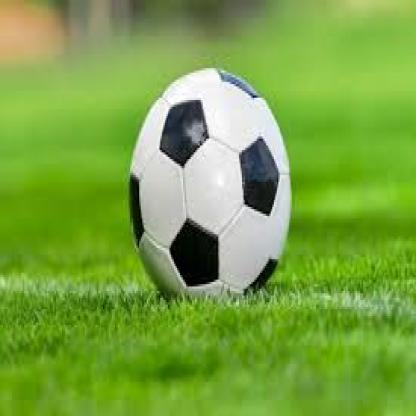ball: (129, 68, 292, 284)
